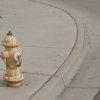Hydrant: (0, 25, 29, 89)
